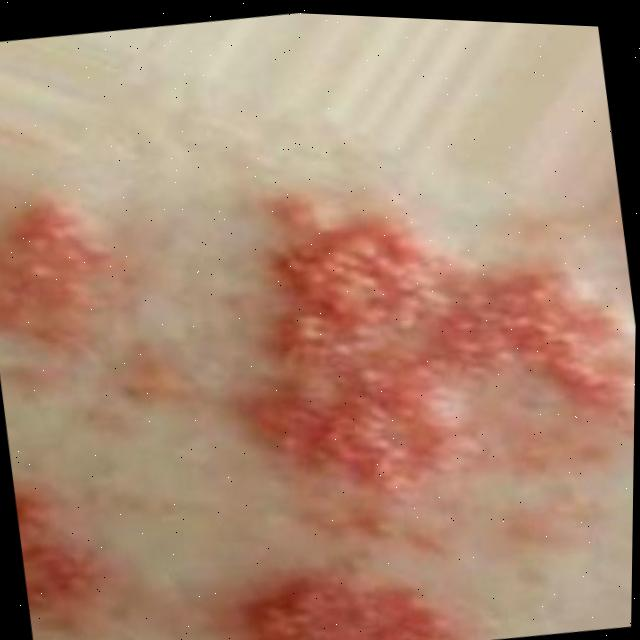Shingles: (237, 159, 638, 540), (0, 200, 130, 373), (237, 553, 467, 640), (12, 478, 133, 640)
